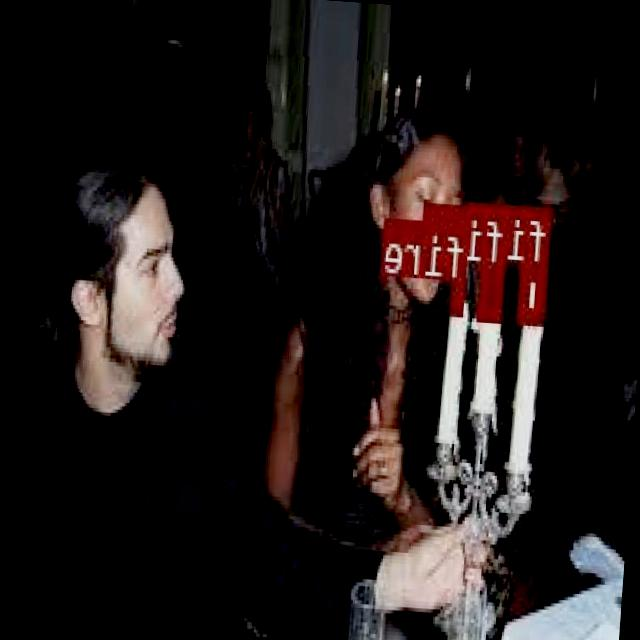fire: (521, 263, 548, 322), (480, 264, 507, 318), (452, 278, 466, 312)
